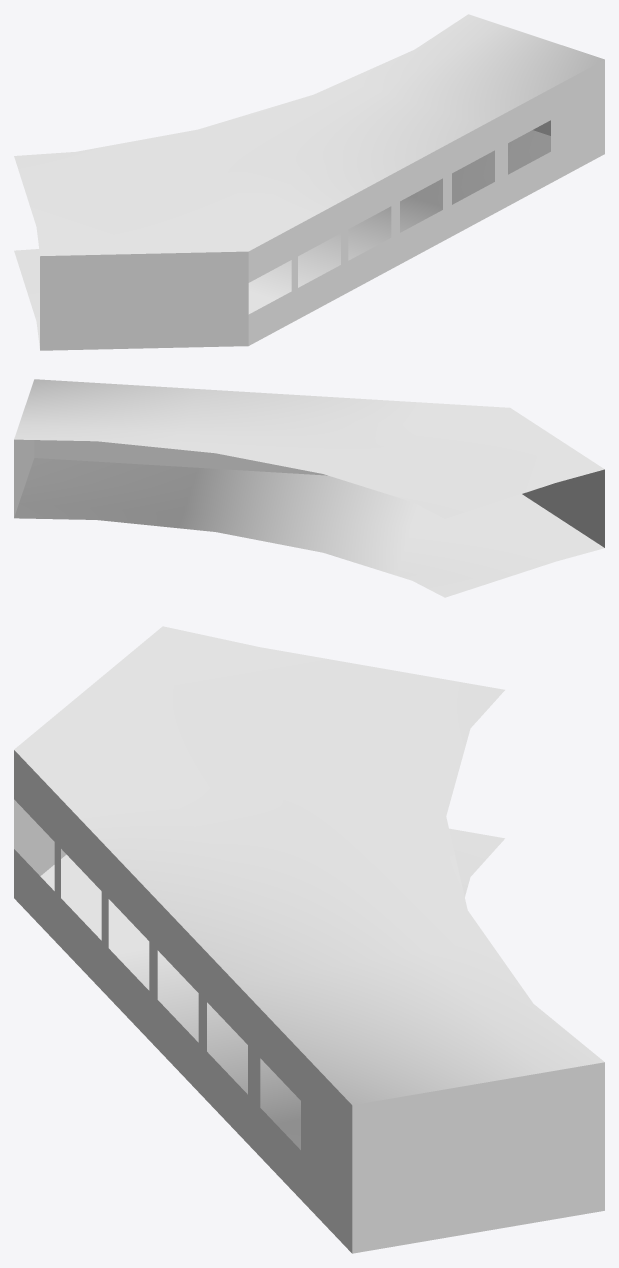
The model's file is original-24.obj.
3 views of the same model, one above another, from view 1: azimuth 30°, elevation 25°; view 2: azimuth 150°, elevation 25°; view 3: azimuth 270°, elevation 25° (orthographic). The views are drawn at different scales.
Parts seen in each view (by area): view 1: #ID156; view 2: #ID156; view 3: #ID156.
Part boxes in pixels (left/top/right/bottom): #ID156: left=14, top=14, right=604, bottom=350; #ID156: left=14, top=379, right=604, bottom=597; #ID156: left=14, top=626, right=604, bottom=1253.
Size of the model in its own units: 0.3729 by 0.0539 by 0.1944.
